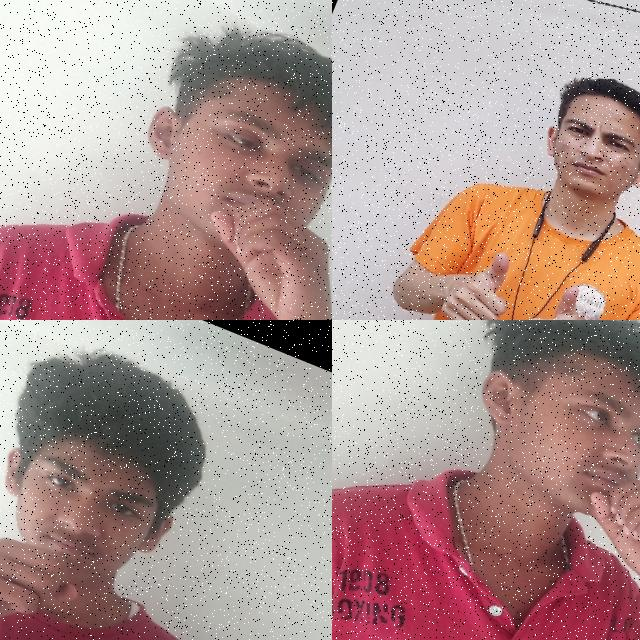Fist Mouth: (81, 0, 332, 320), (406, 320, 640, 639), (0, 328, 229, 640)
Thumbs Up: (430, 233, 528, 320), (507, 269, 608, 320)
